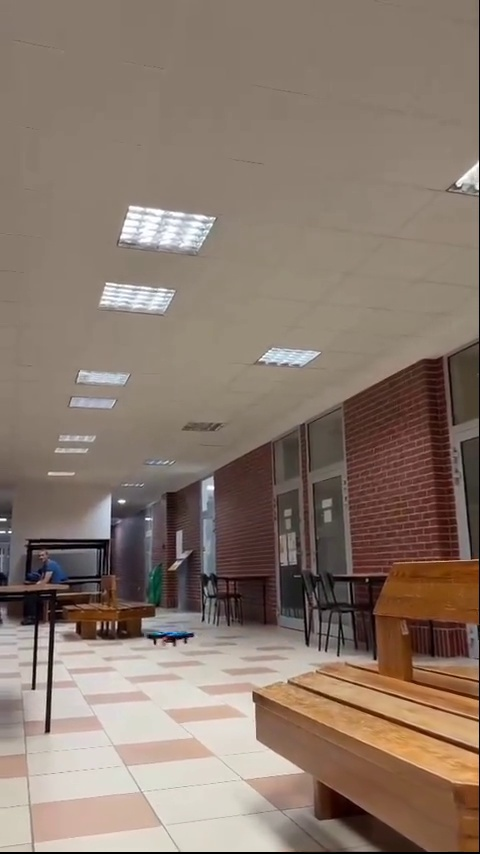drone: (147, 625, 194, 649)
no vest: (29, 542, 62, 598)
